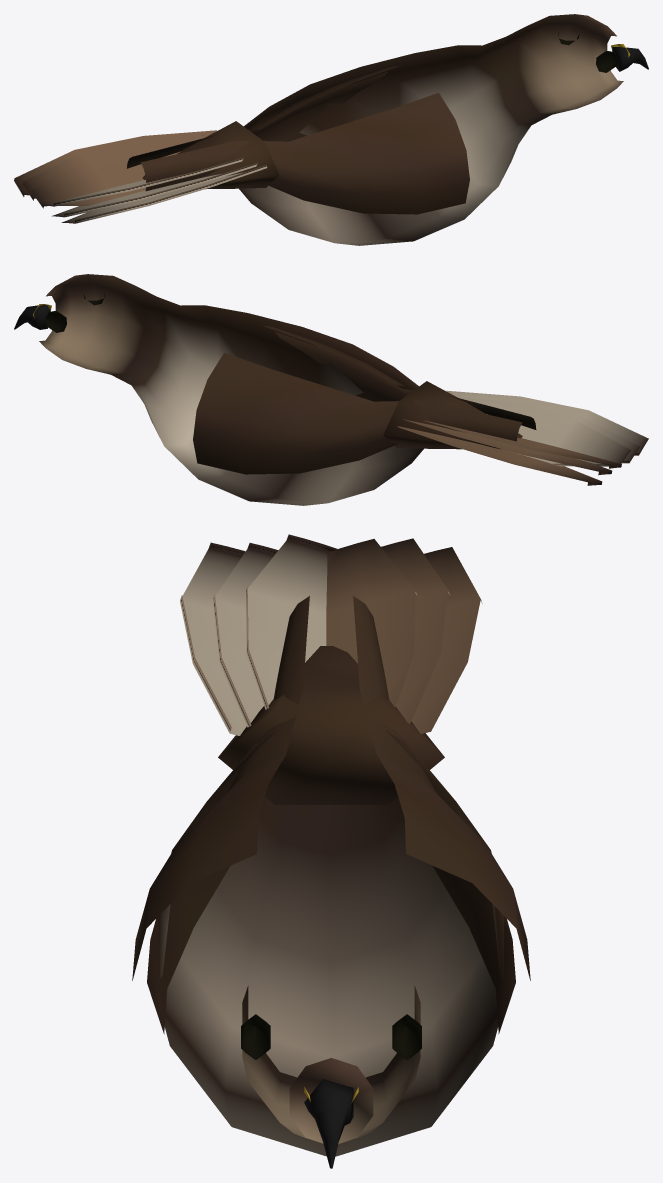
File: SM_Bird_buzzard_closed_LOD1.glb
3 views of the same model, one above another, from view 1: azimuth 30°, elevation 25°; view 2: azimuth 150°, elevation 25°; view 3: azimuth 270°, elevation 25° (orthographic). The views are drawn at different scales.
Visible parts, largest first — view 1: SM_Bird_buzzard_closed_LOD1; view 2: SM_Bird_buzzard_closed_LOD1; view 3: SM_Bird_buzzard_closed_LOD1.
Boxes of the visible parts, x1,y1,x2,y2 form: SM_Bird_buzzard_closed_LOD1: (14, 14, 648, 245); SM_Bird_buzzard_closed_LOD1: (14, 274, 648, 505); SM_Bird_buzzard_closed_LOD1: (132, 534, 530, 1168).
Size of the model in its own units: 0.5874 by 0.1647 by 0.1672.
